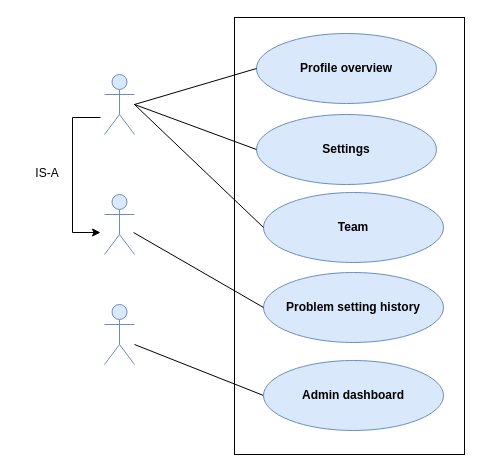
The diagram is 482 pixels wide and 472 high, and some of its shapes have lost their labels. Here are the shapes that lost their labels. From the top down, the box of each, then its label:
(104, 74, 134, 134): Contestant
(104, 194, 134, 254): Problem-Setter
(104, 304, 134, 364): Admin
